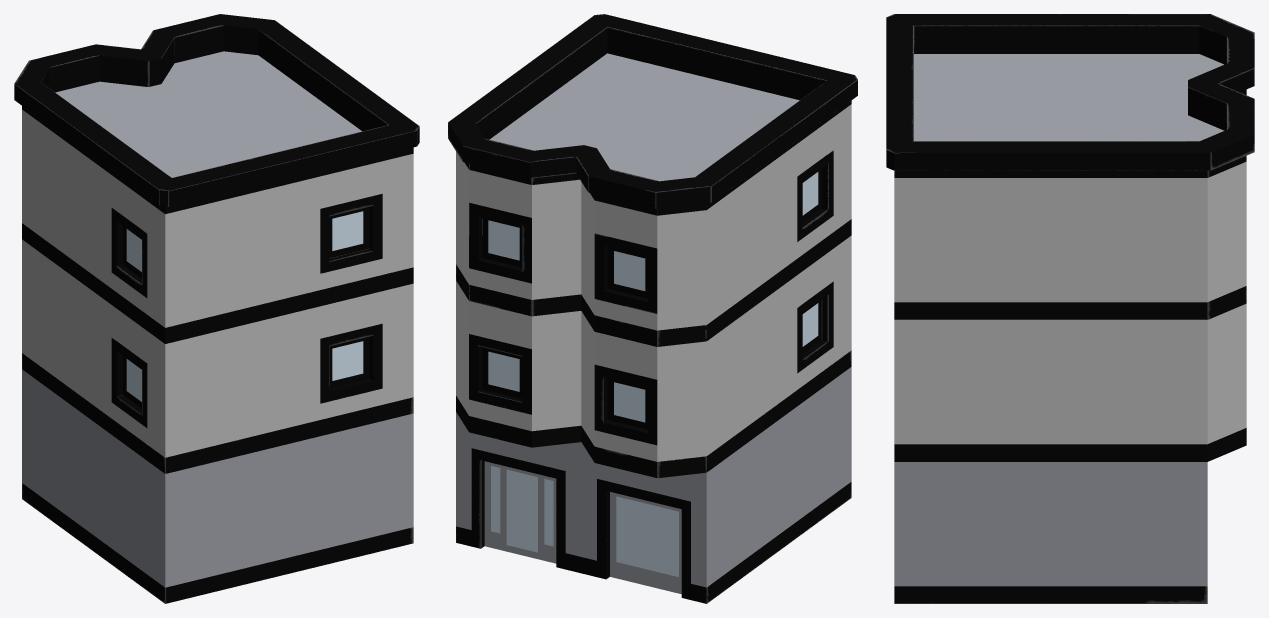
File: small_buildingA1.fbx
3 renders of one model, left to right at view 1: azimuth 30°, elevation 25°; view 2: azimuth 150°, elevation 25°; view 3: azimuth 270°, elevation 25°, orthographic. The views are drawn at different scales.
Parts seen in each view (by area): view 1: small_buildingA; view 2: small_buildingA; view 3: small_buildingA.
Boxes of the visible parts, x1=… form: small_buildingA: x1=14, y1=14, x2=419, y2=603; small_buildingA: x1=448, y1=14, x2=857, y2=603; small_buildingA: x1=886, y1=14, x2=1254, y2=603.
Size of the model in its own units: 84 by 128 by 94.
